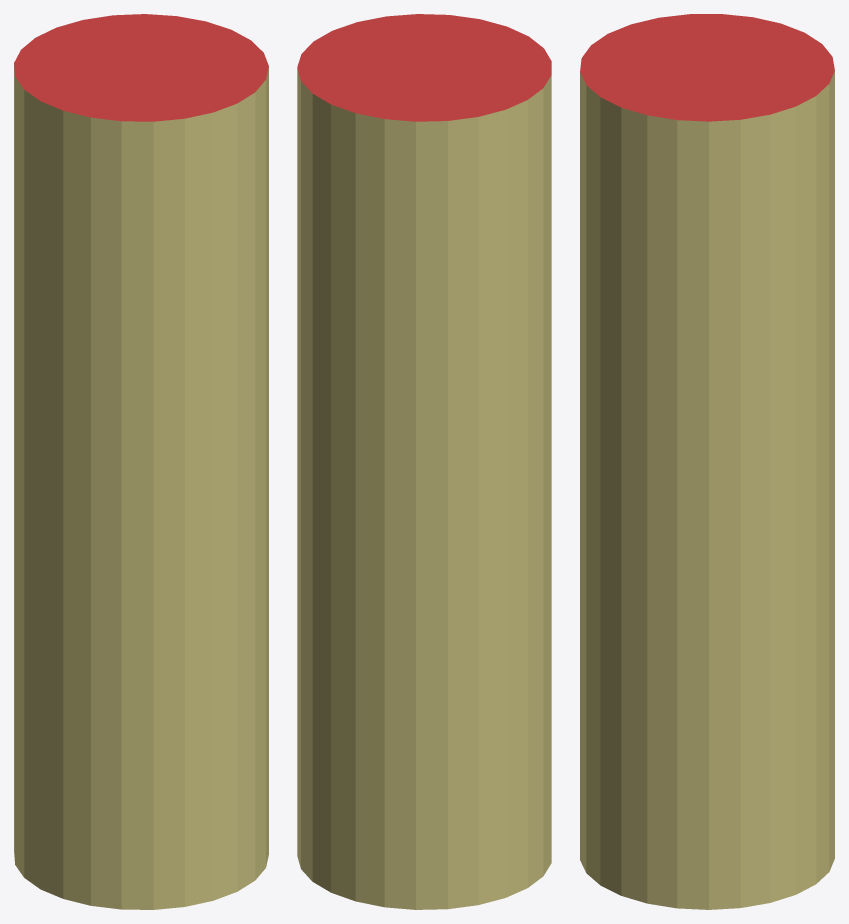
The picture shows the model from 3 angles, left to right: view 1: azimuth 30°, elevation 25°; view 2: azimuth 150°, elevation 25°; view 3: azimuth 270°, elevation 25°; orthographic projection.
Size of the model in its own units: 5.91 by 5.91 by 20.18.
